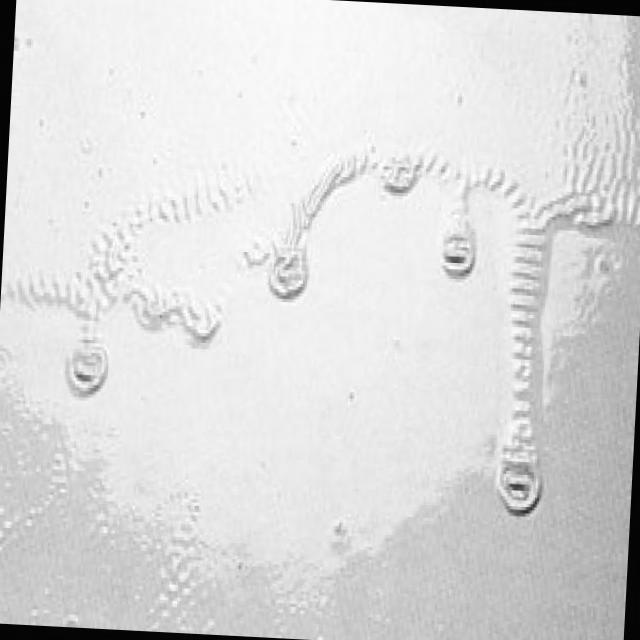paint drips: (3, 107, 291, 478), (407, 152, 626, 551), (237, 98, 477, 394)
